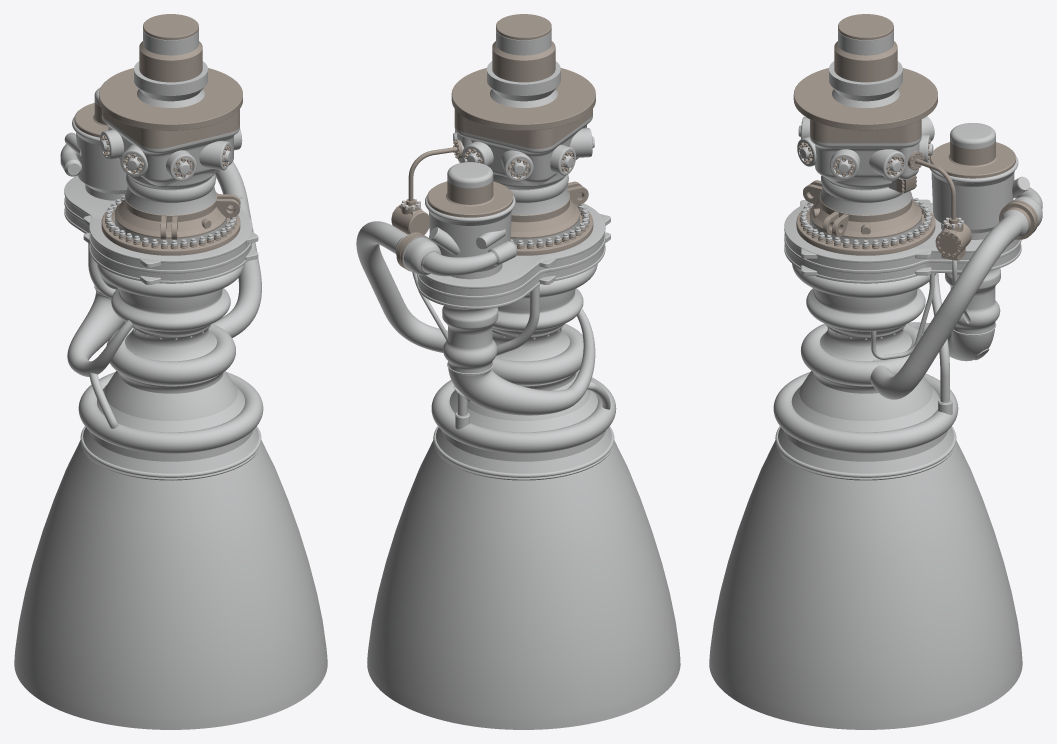
File: engine.glb
3 views of the same model, side by side, from view 1: azimuth 30°, elevation 25°; view 2: azimuth 150°, elevation 25°; view 3: azimuth 270°, elevation 25° (orthographic).
Visible parts, largest first — view 1: Object_16, Object_9, Object_18, Object_22, Object_21, Object_20, Object_25, Object_17, Object_23, Object_19, Object_26, Object_6 (+2 smaller); view 2: Object_16, Object_9, Object_18, Object_21, Object_22, Object_20, Object_23, Object_25, Object_17, Object_19, Object_12, Object_26; view 3: Object_16, Object_9, Object_18, Object_22, Object_21, Object_17, Object_25, Object_23, Object_20, Object_19, Object_26, Object_6 (+3 smaller).
Part boxes in pixels (x1=…): Object_16: x1=14, y1=29, x2=327, y2=729; Object_9: x1=74, y1=14, x2=242, y2=255; Object_18: x1=78, y1=323, x2=263, y2=453; Object_22: x1=64, y1=87, x2=239, y2=200; Object_21: x1=60, y1=144, x2=261, y2=337; Object_20: x1=67, y1=290, x2=133, y2=376; Object_25: x1=99, y1=129, x2=242, y2=181; Object_17: x1=88, y1=243, x2=244, y2=298; Object_23: x1=83, y1=215, x2=160, y2=428; Object_19: x1=80, y1=426, x2=261, y2=477; Object_26: x1=105, y1=195, x2=236, y2=339; Object_6: x1=160, y1=194, x2=240, y2=239; Object_16: x1=367, y1=30, x2=680, y2=729; Object_9: x1=396, y1=14, x2=595, y2=271; Object_18: x1=431, y1=323, x2=616, y2=453; Object_21: x1=356, y1=221, x2=517, y2=352; Object_22: x1=425, y1=115, x2=592, y2=429; Object_20: x1=448, y1=308, x2=595, y2=415; Object_23: x1=442, y1=214, x2=610, y2=409; Object_25: x1=453, y1=128, x2=594, y2=181; Object_17: x1=412, y1=264, x2=597, y2=415; Object_19: x1=433, y1=140, x2=614, y2=477; Object_12: x1=391, y1=204, x2=429, y2=234; Object_26: x1=502, y1=203, x2=589, y2=339; Object_16: x1=709, y1=29, x2=1022, y2=729; Object_9: x1=793, y1=14, x2=1038, y2=255; Object_18: x1=773, y1=323, x2=958, y2=453; Object_22: x1=810, y1=123, x2=1029, y2=414; Object_21: x1=870, y1=187, x2=1042, y2=399; Object_17: x1=792, y1=260, x2=989, y2=402; Object_25: x1=797, y1=116, x2=934, y2=179; Object_23: x1=800, y1=199, x2=1000, y2=336; Object_20: x1=907, y1=322, x2=994, y2=361; Object_19: x1=775, y1=151, x2=956, y2=477; Object_26: x1=800, y1=197, x2=931, y2=339; Object_6: x1=803, y1=180, x2=848, y2=237.
Bounding box in the file's own units: 2.36 × 5.3 × 2.51.
